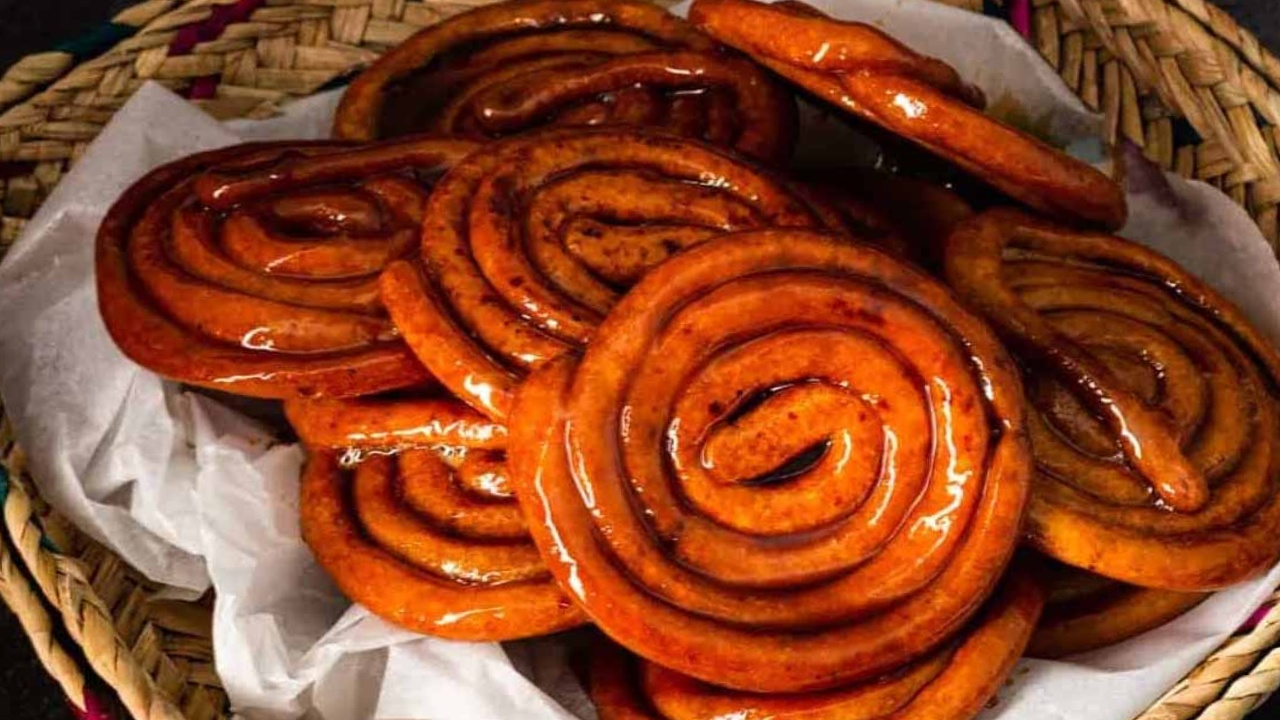pani_walalu: (515, 223, 1036, 704), (931, 205, 1280, 601), (85, 132, 482, 398), (418, 124, 825, 370)
